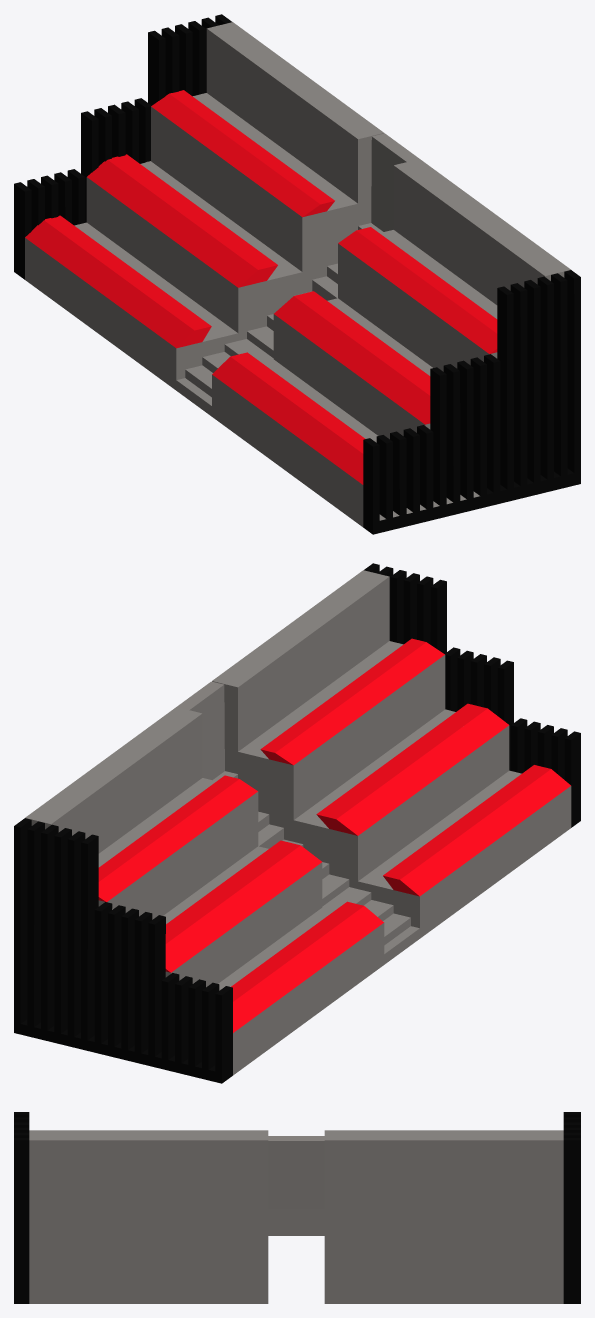
Rendered from bleachers.fbx.
3 views of the same model, one above another, from view 1: azimuth 30°, elevation 25°; view 2: azimuth 150°, elevation 25°; view 3: azimuth 270°, elevation 25° (orthographic). The views are drawn at different scales.
Visible parts, largest first — view 1: Cube.002; view 2: Cube.002; view 3: Cube.002.
Boxes of the visible parts, <box> form: Cube.002: <box>14,14,580,534</box>; Cube.002: <box>14,563,580,1083</box>; Cube.002: <box>14,1112,580,1303</box>.
Size of the model in its own units: 1591 by 1509 by 4741.
